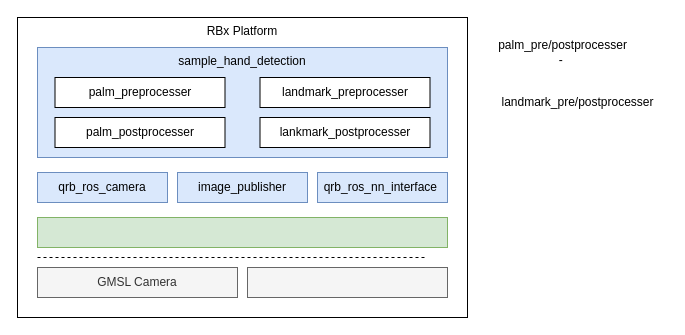
The diagram is 685 pixels wide and 335 high, and some of its shapes have lost their labels. Here are the shapes that lost their labels. From the top down, the centre of each, then its label:
At (242,232): "ROS2 Jazzy".
At (347,282): "HTP".
